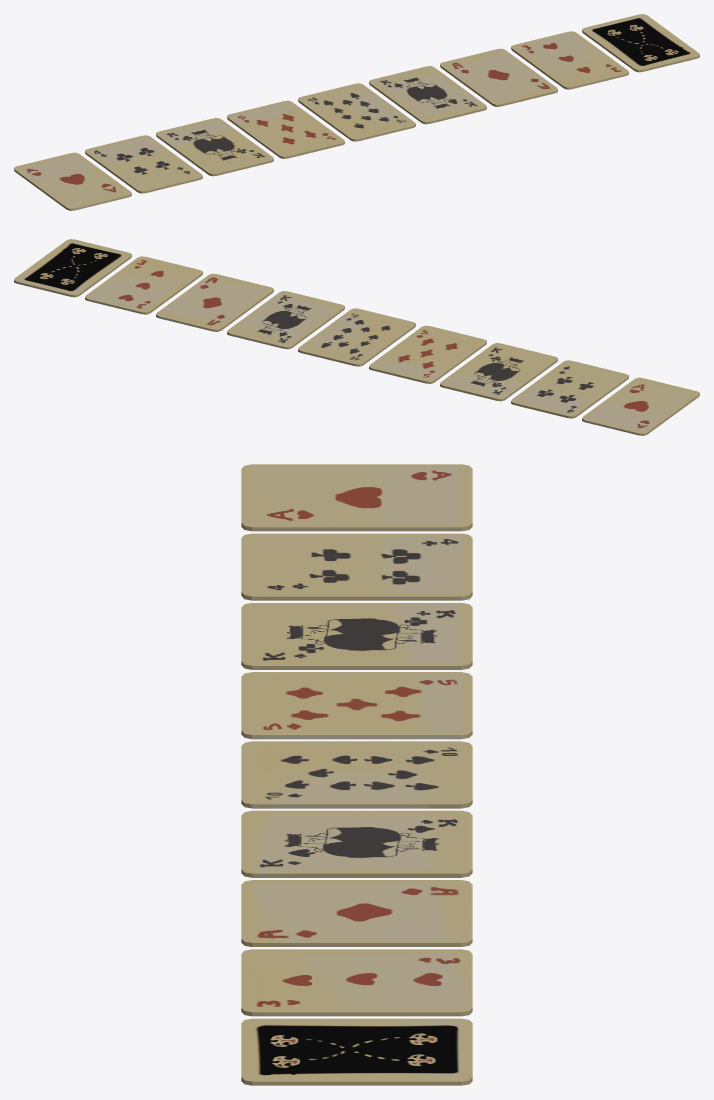
The model's file is M_Card.fbx.
3 views of the same model, one above another, from view 1: azimuth 30°, elevation 25°; view 2: azimuth 150°, elevation 25°; view 3: azimuth 270°, elevation 25° (orthographic). The views are drawn at different scales.
Parts seen in each view (by area): view 1: M_Card2, M_Card4, M_Card6, M_Card7, M_Card1, M_Card9, M_Card3, M_Card5, M_Card8; view 2: M_Card2, M_Card4, M_Card6, M_Card7, M_Card1, M_Card9, M_Card3, M_Card5, M_Card8; view 3: M_Card1, M_Card9, M_Card4, M_Card6, M_Card3, M_Card8, M_Card5, M_Card2, M_Card7.
Part boxes in pixels (x1,y1,x2,y2): M_Card2: (156, 118, 273, 176); M_Card4: (227, 100, 344, 158); M_Card6: (369, 66, 486, 124); M_Card7: (440, 48, 557, 106); M_Card1: (14, 152, 131, 210); M_Card9: (582, 14, 699, 72); M_Card3: (85, 135, 202, 193); M_Card5: (298, 83, 415, 141); M_Card8: (511, 31, 628, 89); M_Card2: (440, 343, 557, 401); M_Card4: (369, 325, 486, 383); M_Card6: (227, 291, 344, 349); M_Card7: (156, 273, 273, 331); M_Card1: (582, 377, 699, 435); M_Card9: (14, 239, 131, 297); M_Card3: (511, 360, 628, 418); M_Card5: (298, 308, 415, 366); M_Card8: (85, 256, 202, 314); M_Card1: (241, 464, 472, 531); M_Card9: (241, 1018, 472, 1085); M_Card4: (241, 672, 472, 739); M_Card6: (241, 810, 472, 877); M_Card3: (241, 533, 472, 600); M_Card8: (241, 949, 472, 1016); M_Card5: (241, 741, 472, 808); M_Card2: (241, 603, 472, 669); M_Card7: (241, 880, 472, 946).
Size of the model in its own units: 1264 by 3.93 by 200.
